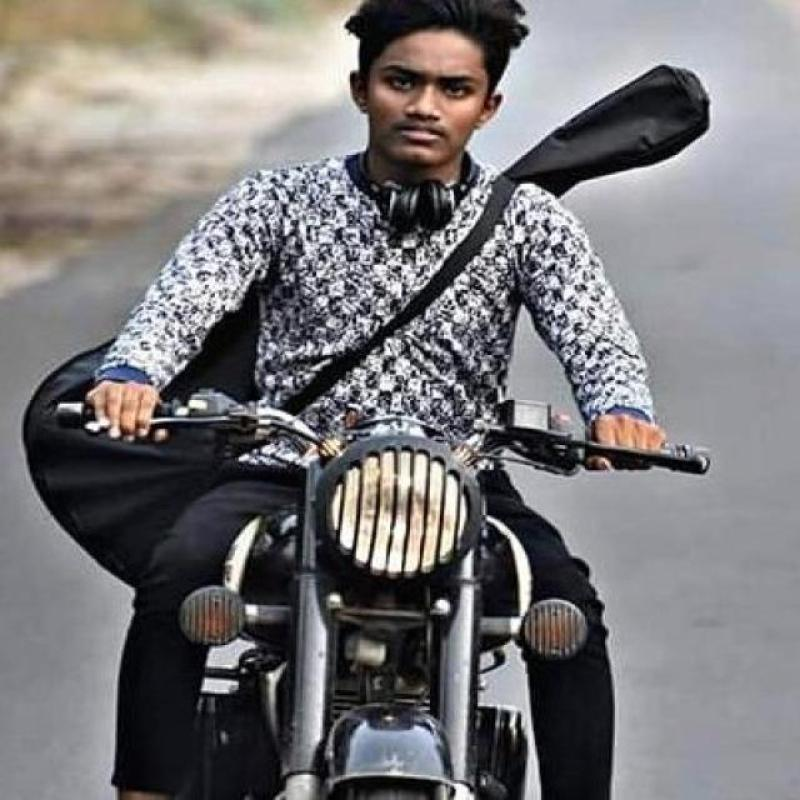nohelmet: (350, 0, 516, 176)
